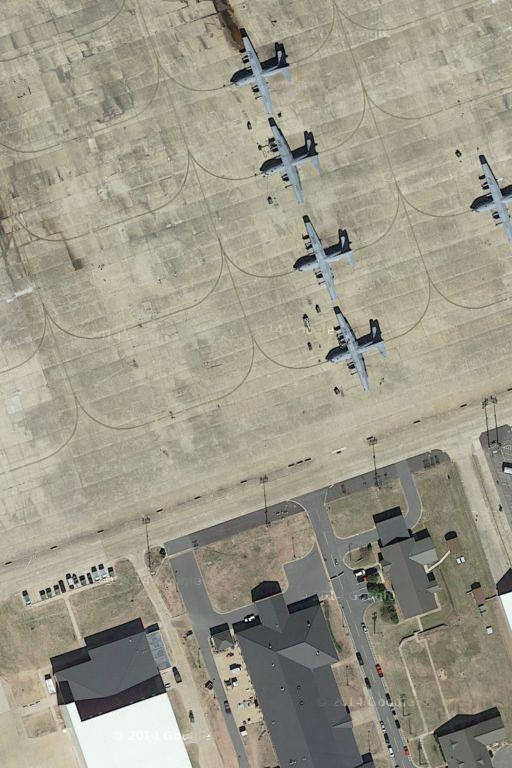C-130: (255, 116, 329, 201), (224, 31, 296, 114), (324, 307, 394, 392), (292, 211, 361, 295)
